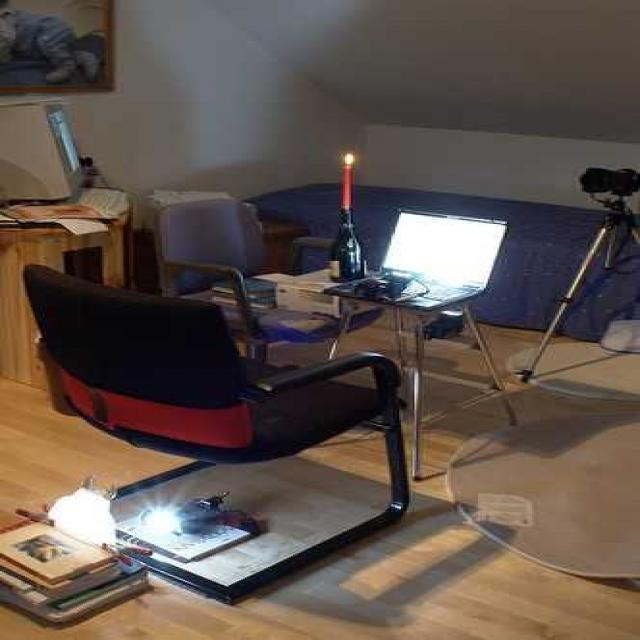laptop: (338, 211, 510, 309)
